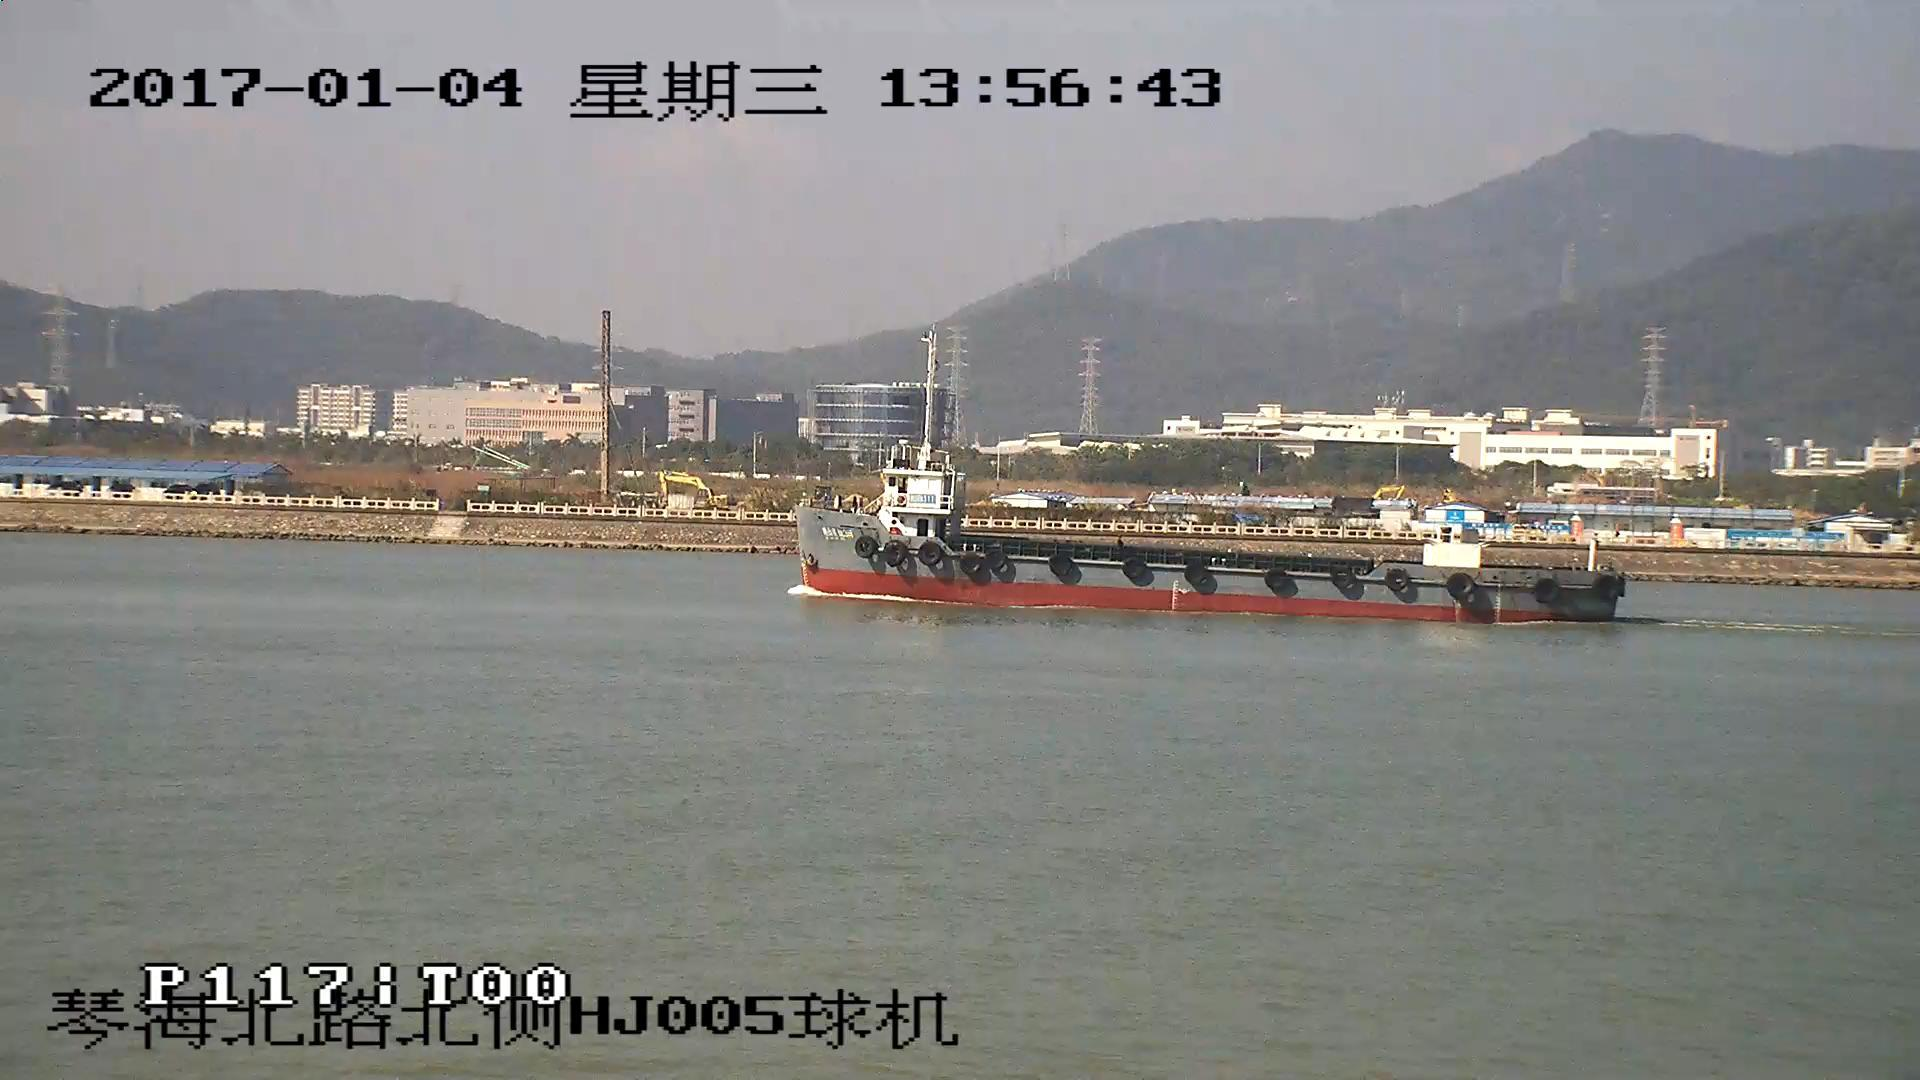Ship: (795, 454, 1627, 630)
